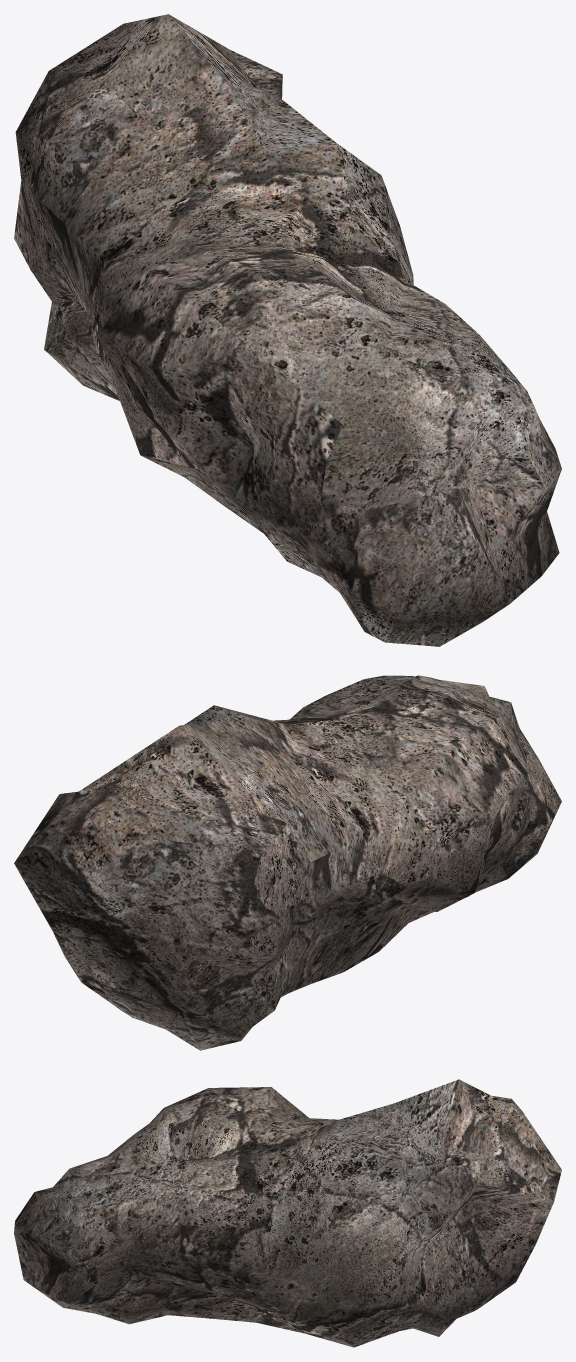
File: Rock_10x20_C.FBX
The picture shows the model from 3 angles, top to bottom: view 1: azimuth 30°, elevation 25°; view 2: azimuth 150°, elevation 25°; view 3: azimuth 270°, elevation 25°; orthographic projection. The views are drawn at different scales.
Parts seen in each view (by area): view 1: Rock_10x20_C; view 2: Rock_10x20_C; view 3: Rock_10x20_C.
Part boxes in pixels (bbox=[...]): Rock_10x20_C: bbox=[14, 14, 561, 646]; Rock_10x20_C: bbox=[14, 675, 561, 1050]; Rock_10x20_C: bbox=[14, 1079, 561, 1347].
Size of the model in its own units: 10 by 10.46 by 20.61.
Materials: 1 (1 with a texture image).
